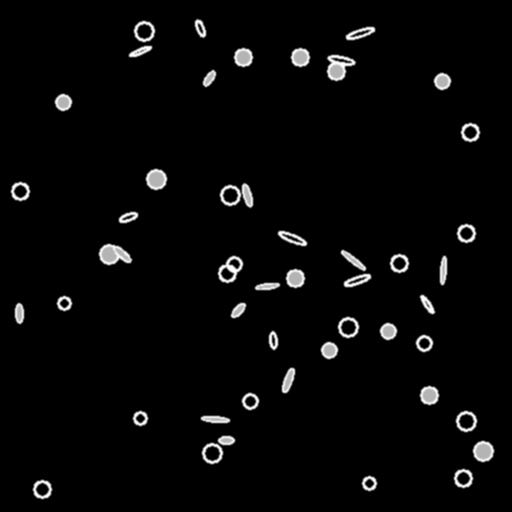pseudomonas: (277, 229, 307, 247), (341, 249, 365, 271), (343, 272, 371, 288), (346, 25, 374, 41), (281, 367, 295, 393), (112, 245, 132, 263), (419, 294, 435, 314), (201, 69, 217, 87), (129, 45, 151, 57), (241, 184, 253, 206), (328, 55, 354, 65), (230, 302, 246, 318), (118, 211, 138, 223), (194, 19, 206, 37), (439, 257, 447, 283), (202, 415, 228, 423), (255, 282, 279, 290), (15, 303, 23, 323), (269, 332, 277, 348), (218, 437, 233, 443)
synechocystis: (221, 186, 239, 204), (147, 170, 165, 188), (339, 318, 357, 336), (135, 22, 153, 40), (457, 412, 475, 430), (203, 444, 221, 462), (100, 245, 118, 263), (474, 442, 492, 460), (458, 225, 474, 241), (455, 470, 471, 486), (462, 124, 478, 140), (34, 481, 50, 497), (235, 49, 251, 65), (219, 265, 235, 281), (292, 49, 308, 65), (391, 255, 407, 271), (421, 387, 437, 403), (12, 183, 28, 199), (287, 270, 303, 286), (328, 63, 344, 79), (322, 343, 336, 357), (435, 74, 449, 88), (227, 257, 241, 271), (417, 336, 431, 350), (56, 95, 70, 109), (243, 394, 257, 408), (381, 324, 395, 338), (58, 297, 70, 309), (363, 477, 375, 489), (134, 412, 146, 424)
